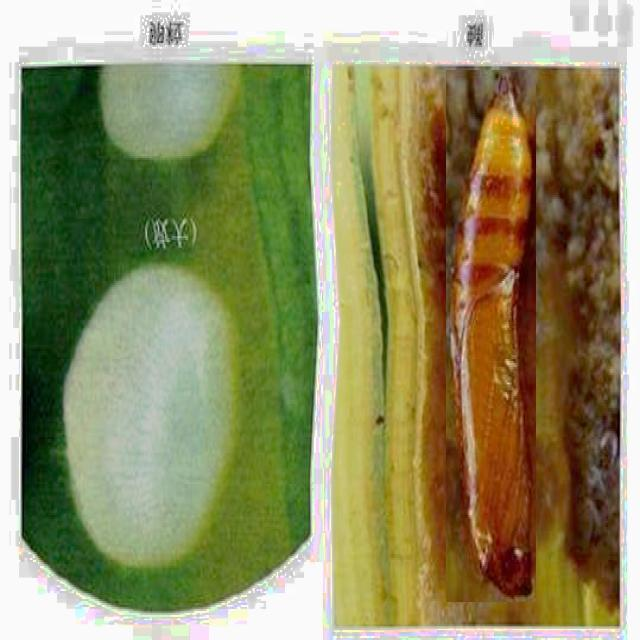whorl-maggot: (446, 70, 536, 602)
